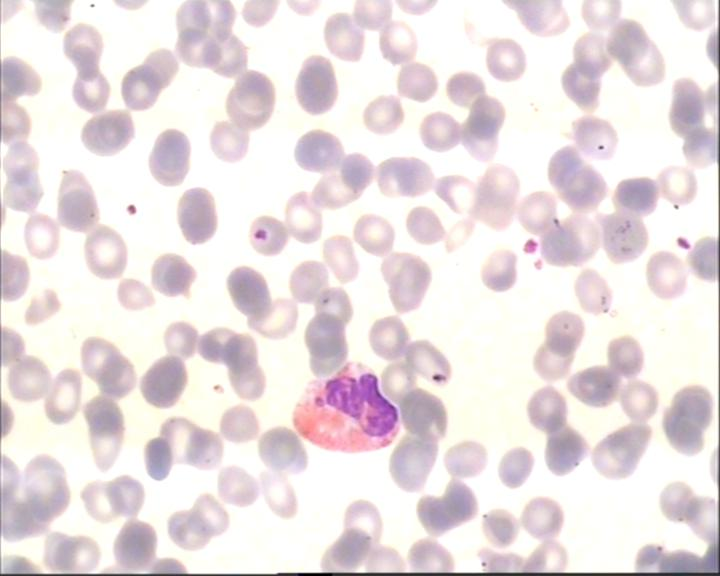eosi: (289, 357, 401, 456)
